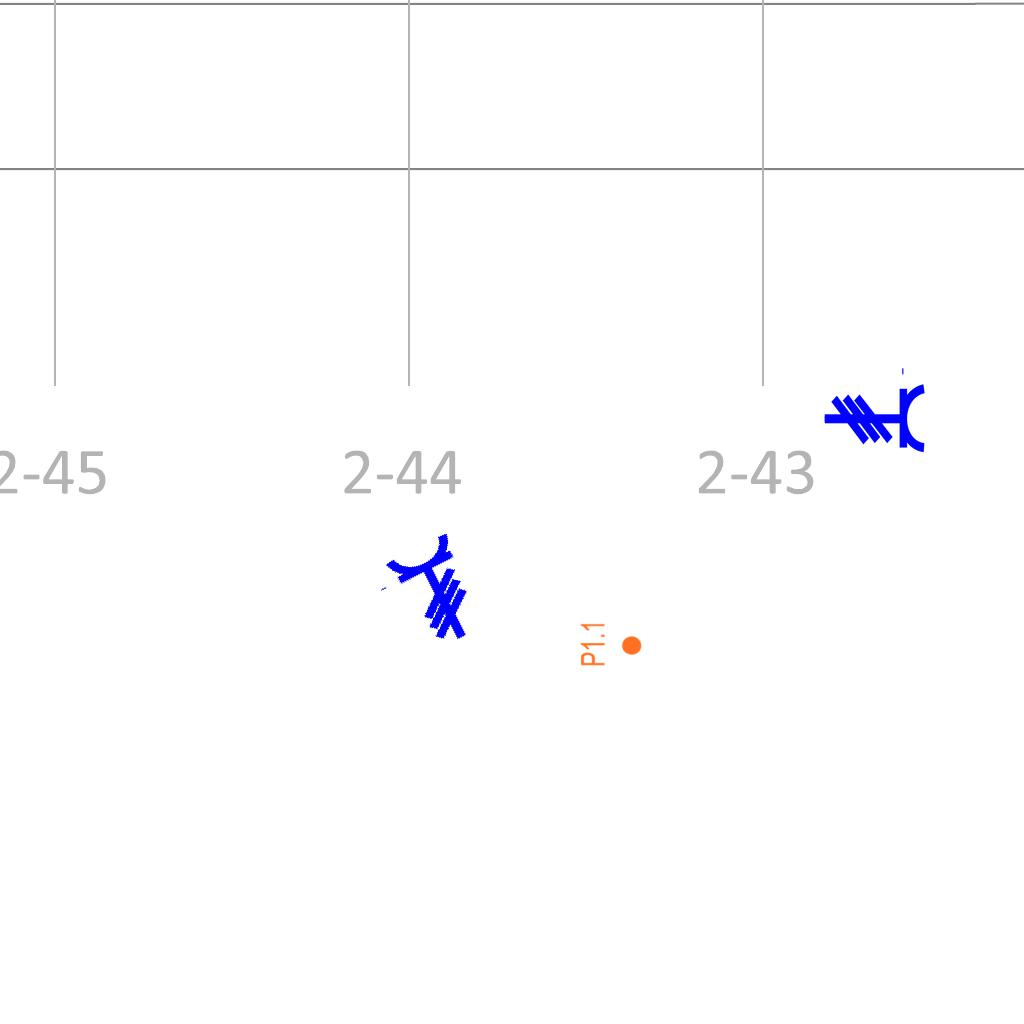CEE_Drehstrom_Steckdose_16_32_A: (367, 529, 495, 663), (823, 365, 927, 455)
Downlight_LED_Einbauleuchten_Flur_2: (579, 621, 643, 667)
